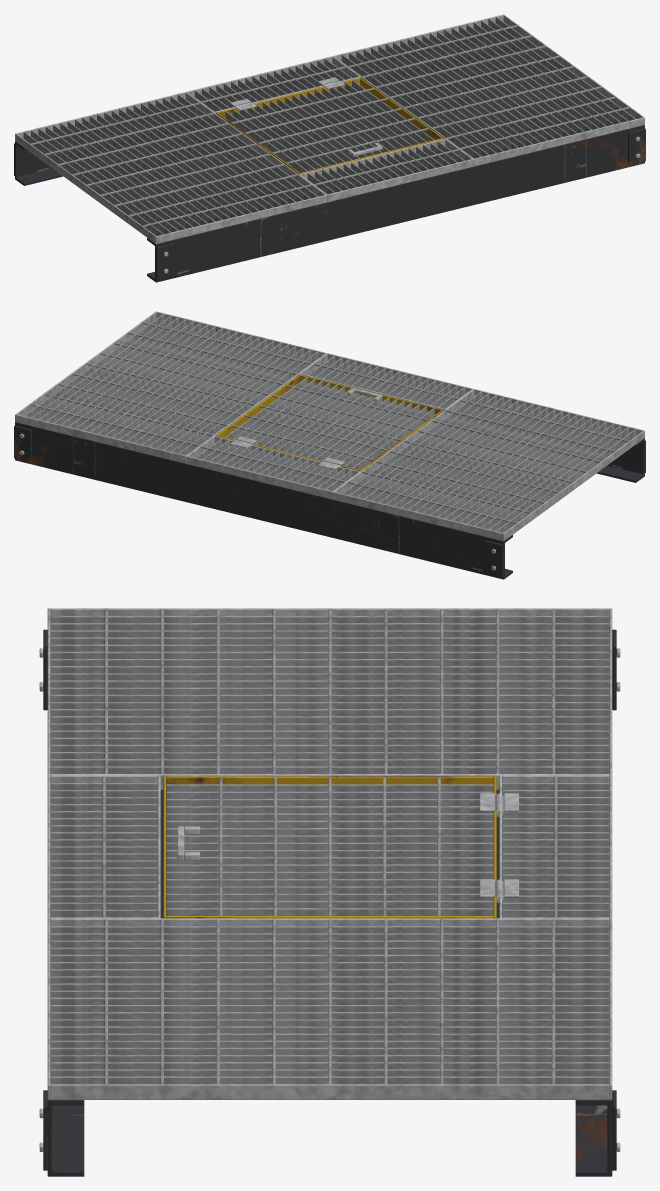
The model's file is SM_IK_Catwalk_200_Hatch.fbx.
The picture shows the model from 3 angles, top to bottom: view 1: azimuth 30°, elevation 25°; view 2: azimuth 150°, elevation 25°; view 3: azimuth 270°, elevation 25°; orthographic projection. The views are drawn at different scales.
Visible parts, largest first — view 1: SM_IK_Catwalk_200_Hatch; view 2: SM_IK_Catwalk_200_Hatch; view 3: SM_IK_Catwalk_200_Hatch.
Boxes of the visible parts, x1,y1,x2,y2 form: SM_IK_Catwalk_200_Hatch: (14,14,645,282); SM_IK_Catwalk_200_Hatch: (14,311,645,579); SM_IK_Catwalk_200_Hatch: (39,608,620,1176).
Size of what is drawn, in the model's own units: 200 by 103 by 19.2.
